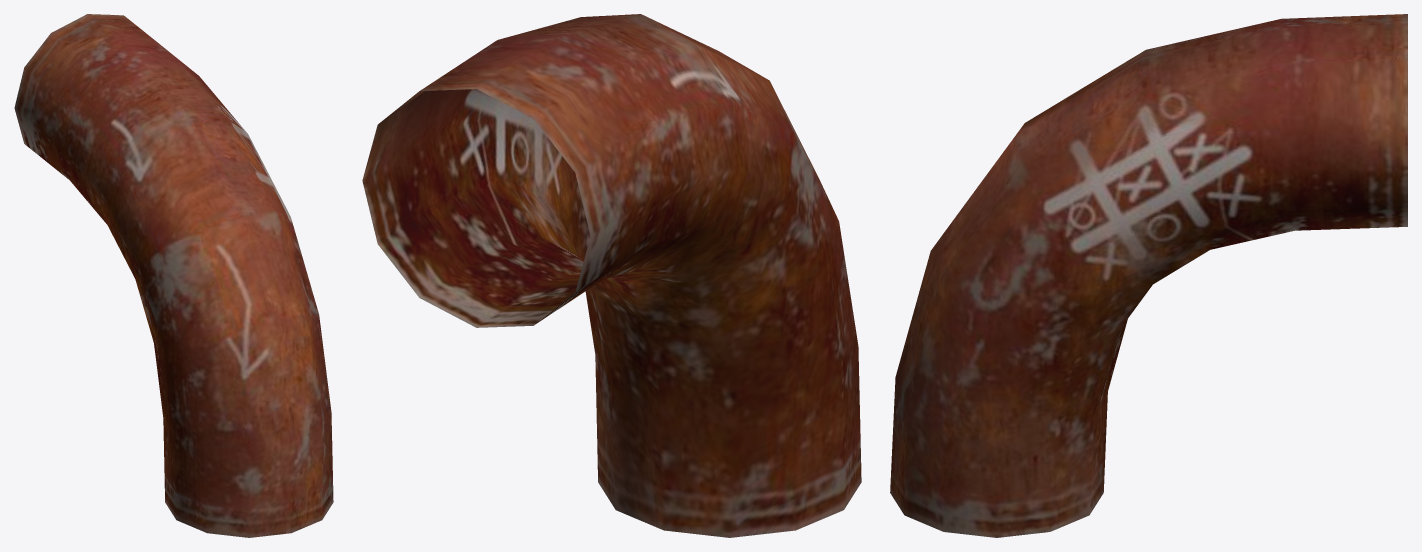
Rendered from stylized_pipe_07.glb.
The picture shows the model from 3 angles, left to right: view 1: azimuth 30°, elevation 25°; view 2: azimuth 150°, elevation 25°; view 3: azimuth 270°, elevation 25°; orthographic projection. The views are drawn at different scales.
Visible parts, largest first — view 1: stylized_pipe_07; view 2: stylized_pipe_07; view 3: stylized_pipe_07.
Boxes of the visible parts, <box> form: stylized_pipe_07: <box>14,14,333,537</box>; stylized_pipe_07: <box>362,14,861,537</box>; stylized_pipe_07: <box>890,14,1407,537</box>.
Size of what is drawn, in the model's own units: 0.0832 by 0.2016 by 0.2016.
1 material, 1 textured.
